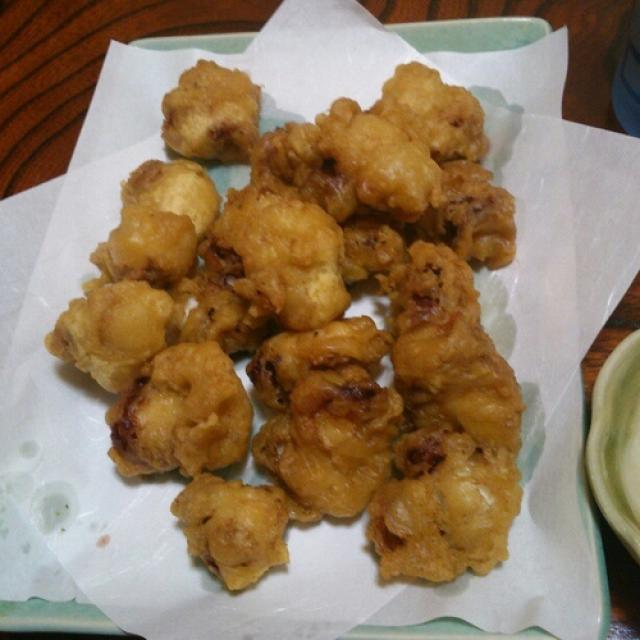Chicken nugget: (64, 48, 560, 619)
